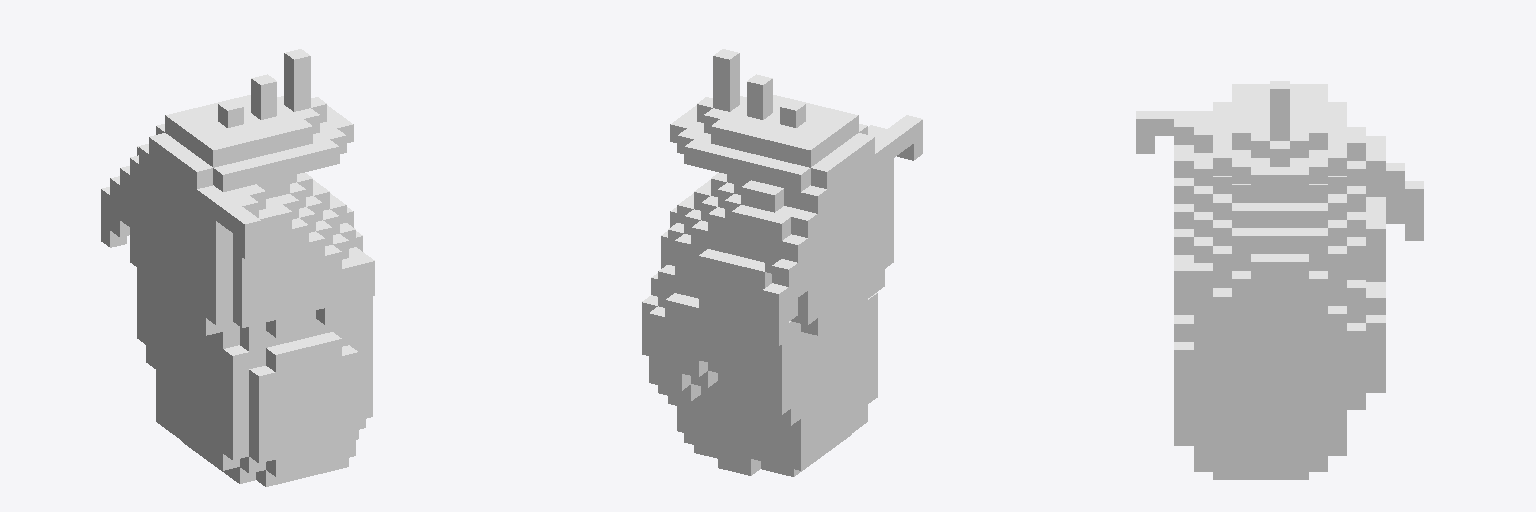
Rendered from Minotaur1-6.obj.
The picture shows the model from 3 angles: view 1: azimuth 30°, elevation 25°; view 2: azimuth 150°, elevation 25°; view 3: azimuth 270°, elevation 25°; orthographic projection.
Parts seen in each view (by area): view 1: object 1; view 2: object 1; view 3: object 1.
Part boxes in pixels (left/top/right/bottom): object 1: left=101, top=49, right=374, bottom=486; object 1: left=642, top=49, right=922, bottom=476; object 1: left=1136, top=81, right=1423, bottom=479.
Size of the model in its own units: 1 by 2.2 by 1.5.